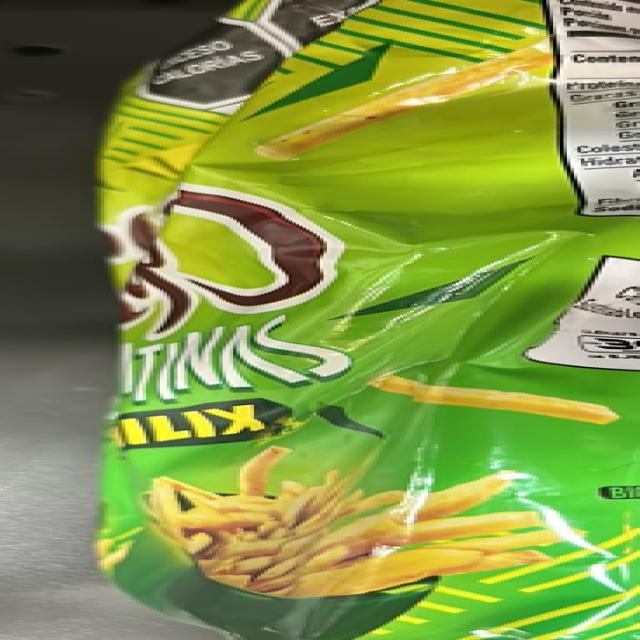chipsPapatinas: (117, 5, 640, 636)
